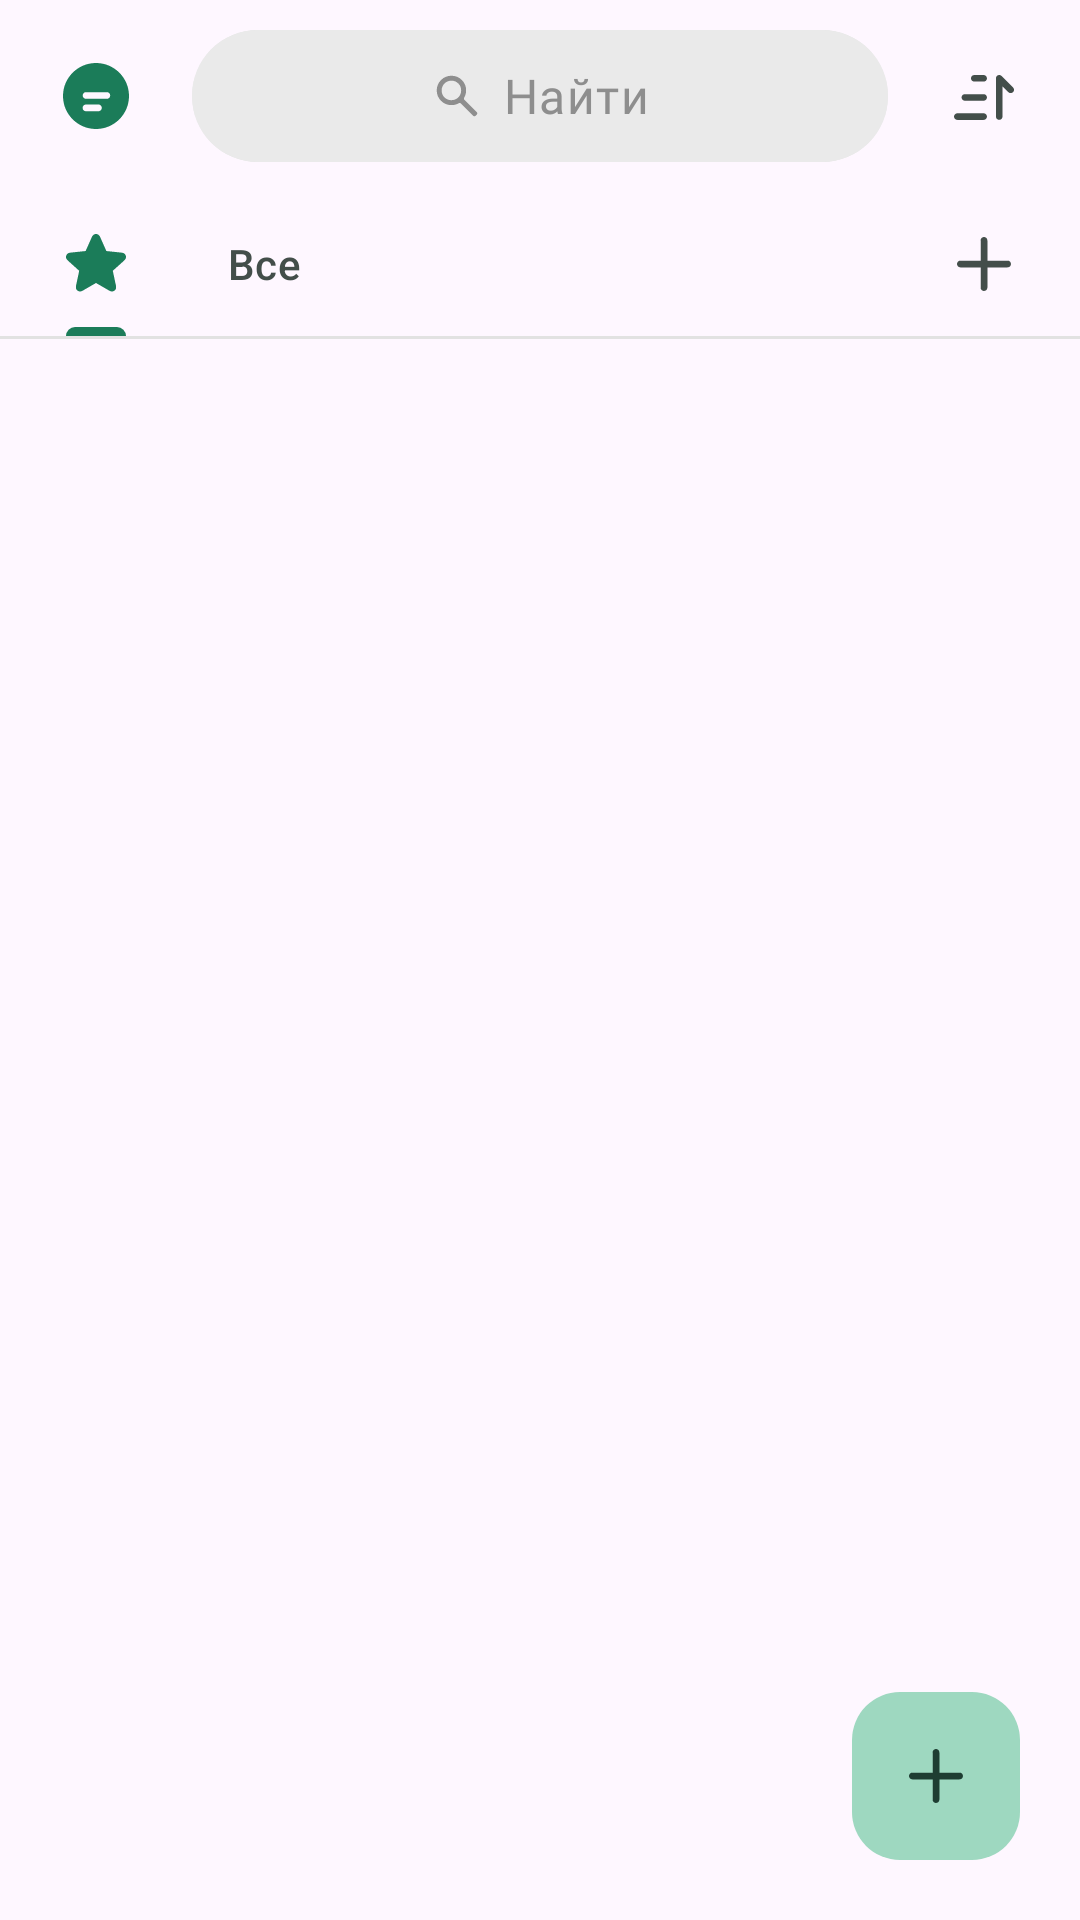

Locate icon controls on the screen. Image size 1080x1920, boxes as (x1, y1, x2, y2).
add: (957, 237, 1011, 291)
sort: (954, 75, 1014, 120)
Добавить: (852, 1692, 1020, 1860)
